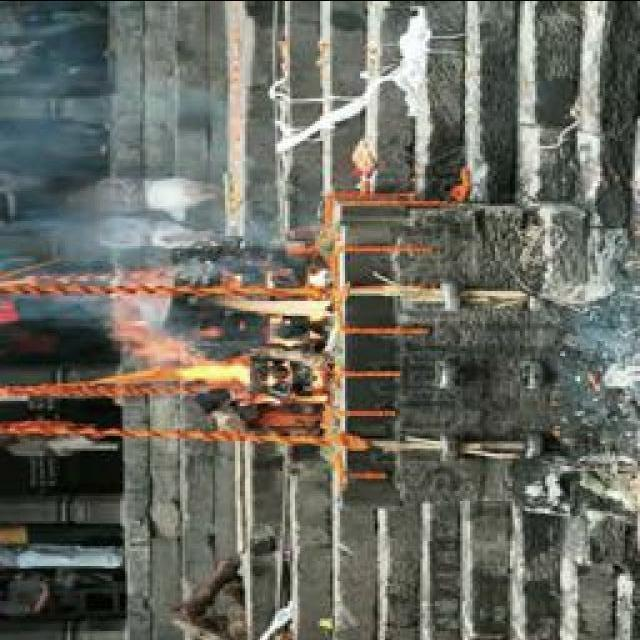Fire: (109, 326, 257, 394), (216, 273, 336, 326)
